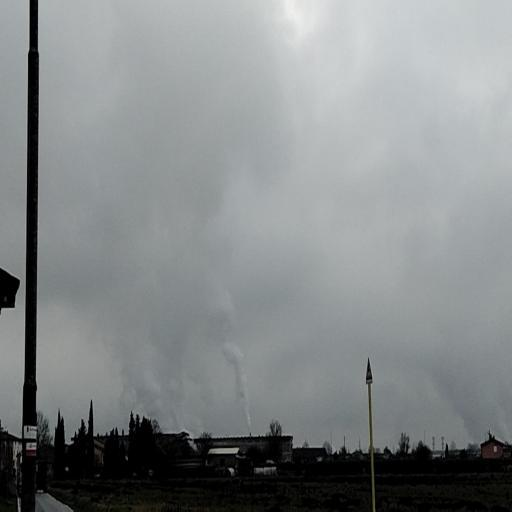leakage: (61, 183, 257, 453)
